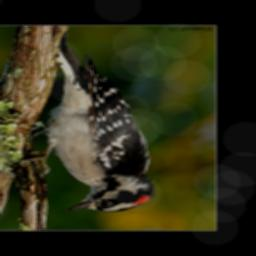Woodpecker: (23, 31, 158, 211)
